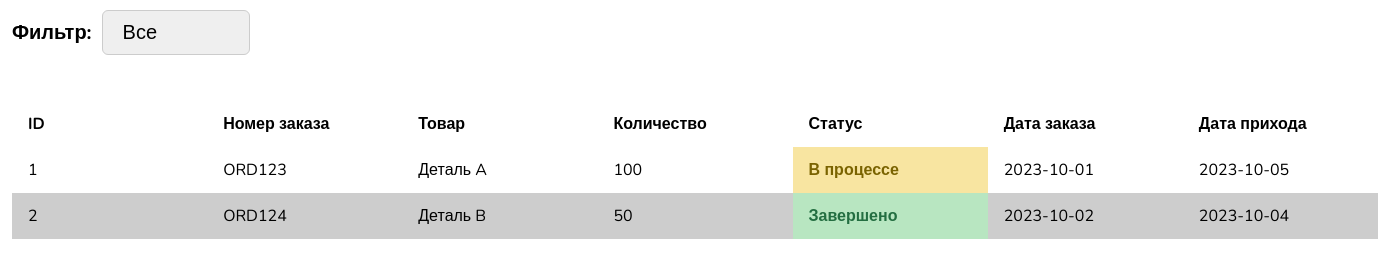
Test: Фильтрует данные по статусу
This screenshot has width=1378, height=256.
Select "Завершено" in the dropdown at (176,32), box [102,10,250,55]
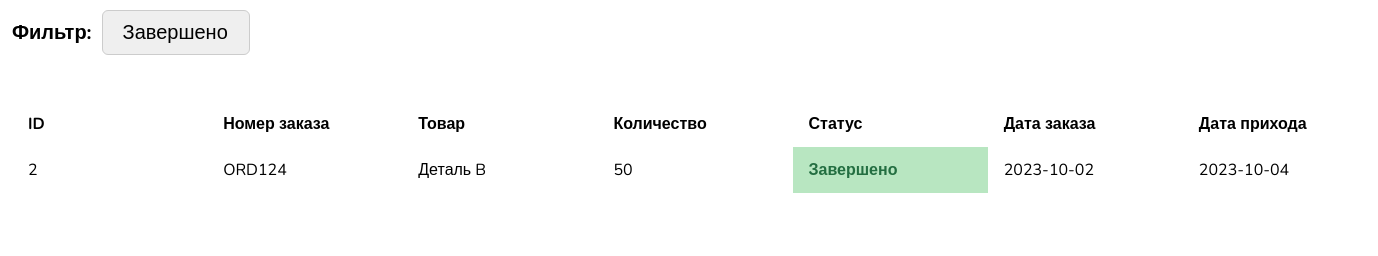
Expected: the text "Деталь B" is shown, [402,147,597,193]
Expected: the text "Деталь A" is gone
